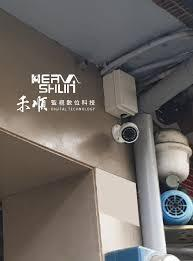Monitor: (102, 97, 164, 156)
